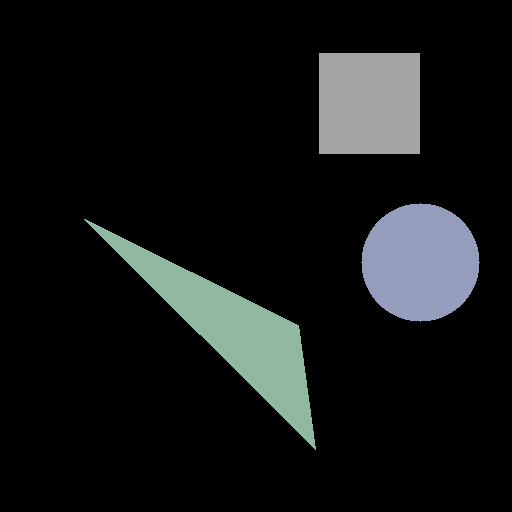circle: (361, 203, 479, 321)
square: (319, 53, 419, 153)
triangle: (84, 219, 315, 449)
